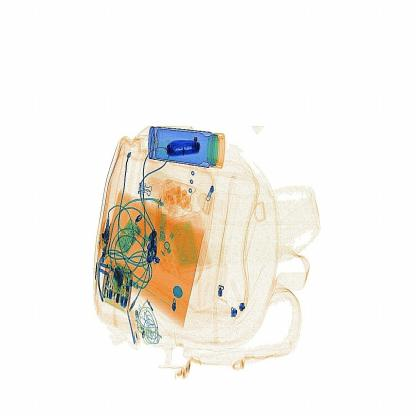scissors: (162, 130, 209, 162)
